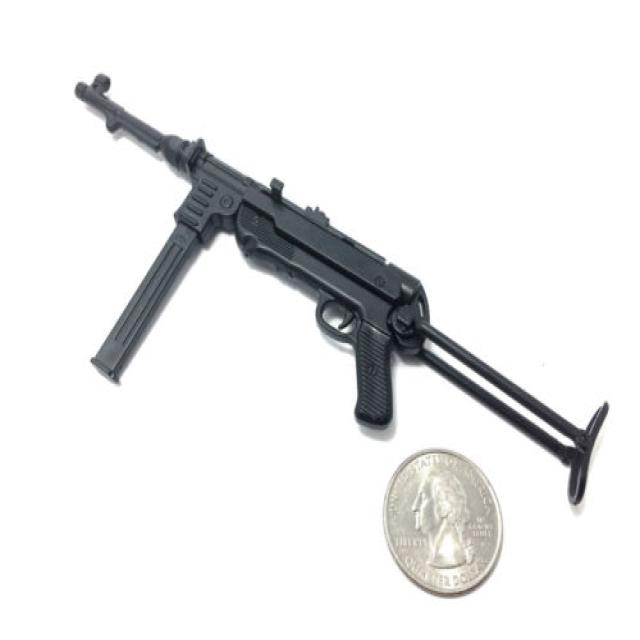SMG: (76, 76, 609, 509)
